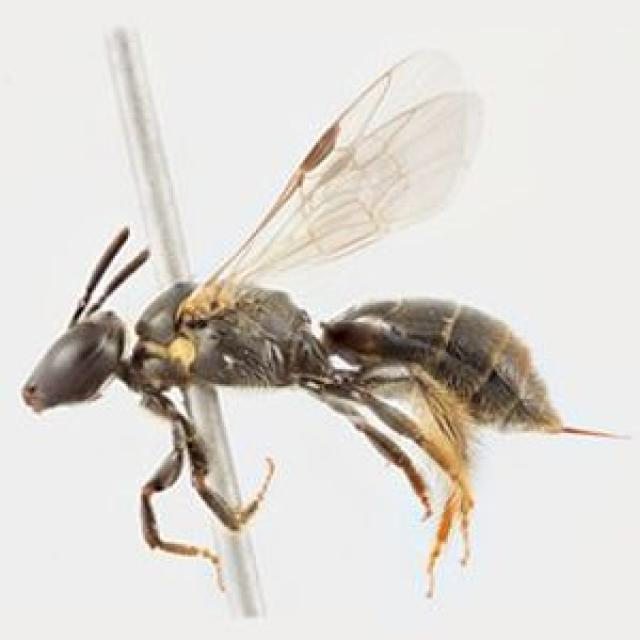Braunsapis: (21, 46, 587, 620)
